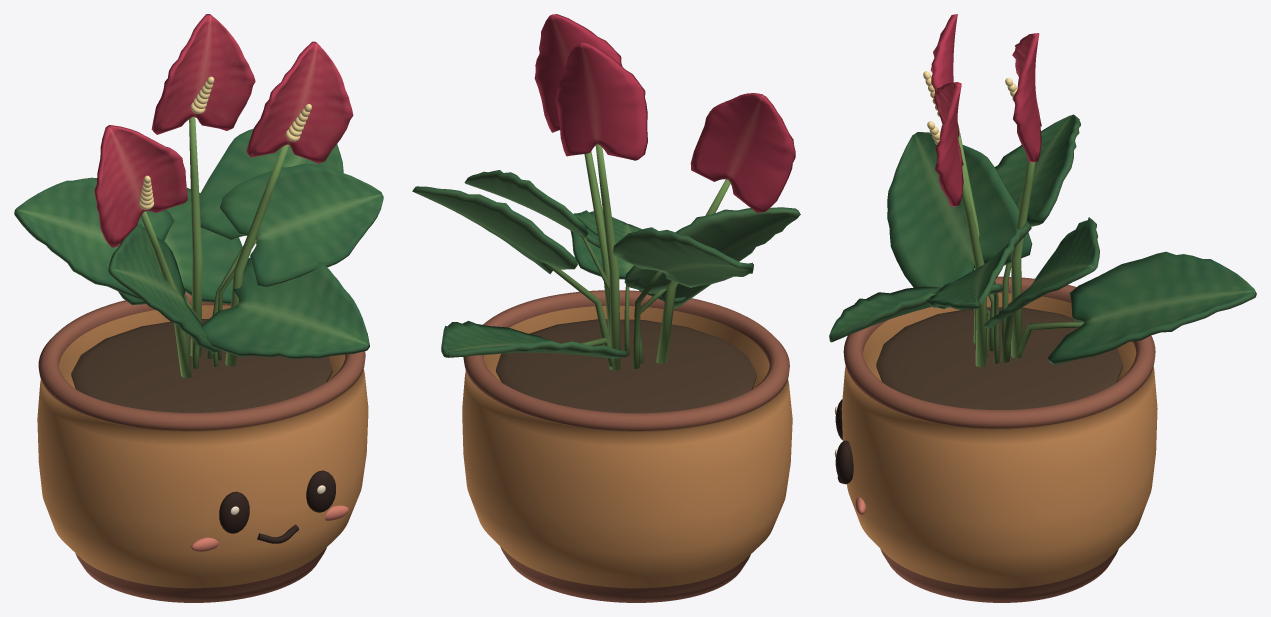
File: flamingo-flower-v1.glb
The picture shows the model from 3 angles, left to right: view 1: azimuth 30°, elevation 25°; view 2: azimuth 150°, elevation 25°; view 3: azimuth 270°, elevation 25°; orthographic projection.
Parts seen in each view (by area): view 1: Wheel-thrown ceramic, Soil, Anthurium lamina 6, Anthurium lamina 3, Flamingo bloom 2 glossy bract, Flamingo bloom 3 glossy bract, Flamingo bloom 1 glossy bract, Anthurium lamina 2, Anthurium lamina 5, Anthurium lamina 1, Anthurium lamina 4, Flamingo bloom 3 peduncle (+4 smaller); view 2: Wheel-thrown ceramic, Soil, Flamingo bloom 1 glossy bract, Flamingo bloom 3 glossy bract, Anthurium lamina 5, Anthurium lamina 2, Anthurium lamina 1, Anthurium lamina 4, Flamingo bloom 2 glossy bract, Anthurium lamina 6, Flamingo bloom 3 peduncle, Anthurium lamina 3 (+4 smaller); view 3: Wheel-thrown ceramic, Soil, Anthurium lamina 5, Anthurium lamina 4, Anthurium lamina 2, Anthurium lamina 1, Anthurium lamina 3, Flamingo bloom 3 glossy bract, Flamingo bloom 2 glossy bract, Anthurium lamina 6, Flamingo bloom 3 peduncle, Flamingo bloom 2 peduncle (+3 smaller).
Part boxes in pixels (<box>): Wheel-thrown ceramic: <box>37,292,368,602</box>; Soil: <box>71,319,332,412</box>; Anthurium lamina 6: <box>220,163,383,287</box>; Anthurium lamina 3: <box>201,258,369,358</box>; Flamingo bloom 2 glossy bract: <box>246,41,353,163</box>; Flamingo bloom 3 glossy bract: <box>151,14,255,134</box>; Flamingo bloom 1 glossy bract: <box>94,125,187,247</box>; Anthurium lamina 2: <box>14,177,174,300</box>; Anthurium lamina 5: <box>108,224,218,353</box>; Anthurium lamina 1: <box>199,128,343,244</box>; Anthurium lamina 4: <box>118,188,242,304</box>; Flamingo bloom 3 peduncle: <box>189,117,202,356</box>; Wheel-thrown ceramic: <box>462,290,792,602</box>; Soil: <box>496,319,756,413</box>; Flamingo bloom 1 glossy bract: <box>690,93,795,212</box>; Flamingo bloom 3 glossy bract: <box>555,42,647,160</box>; Anthurium lamina 5: <box>624,207,800,308</box>; Anthurium lamina 2: <box>613,227,753,287</box>; Anthurium lamina 1: <box>412,186,577,274</box>; Anthurium lamina 4: <box>441,321,626,358</box>; Flamingo bloom 2 glossy bract: <box>534,14,622,132</box>; Anthurium lamina 6: <box>464,170,599,247</box>; Flamingo bloom 3 peduncle: <box>595,144,620,370</box>; Anthurium lamina 3: <box>570,210,685,303</box>; Wheel-thrown ceramic: <box>841,276,1157,602</box>; Soil: <box>876,307,1122,409</box>; Anthurium lamina 5: <box>887,132,1032,308</box>; Anthurium lamina 4: <box>1048,251,1256,365</box>; Anthurium lamina 2: <box>995,114,1080,226</box>; Anthurium lamina 1: <box>983,217,1099,328</box>; Anthurium lamina 3: <box>829,283,1002,342</box>; Flamingo bloom 3 glossy bract: <box>1012,33,1041,162</box>; Flamingo bloom 2 glossy bract: <box>934,82,963,206</box>; Anthurium lamina 6: <box>926,221,1031,309</box>; Flamingo bloom 3 peduncle: <box>1011,125,1040,358</box>; Flamingo bloom 2 peduncle: <box>962,166,986,367</box>.
Size of the model in its own units: 1.79 by 2.78 by 2.02.
